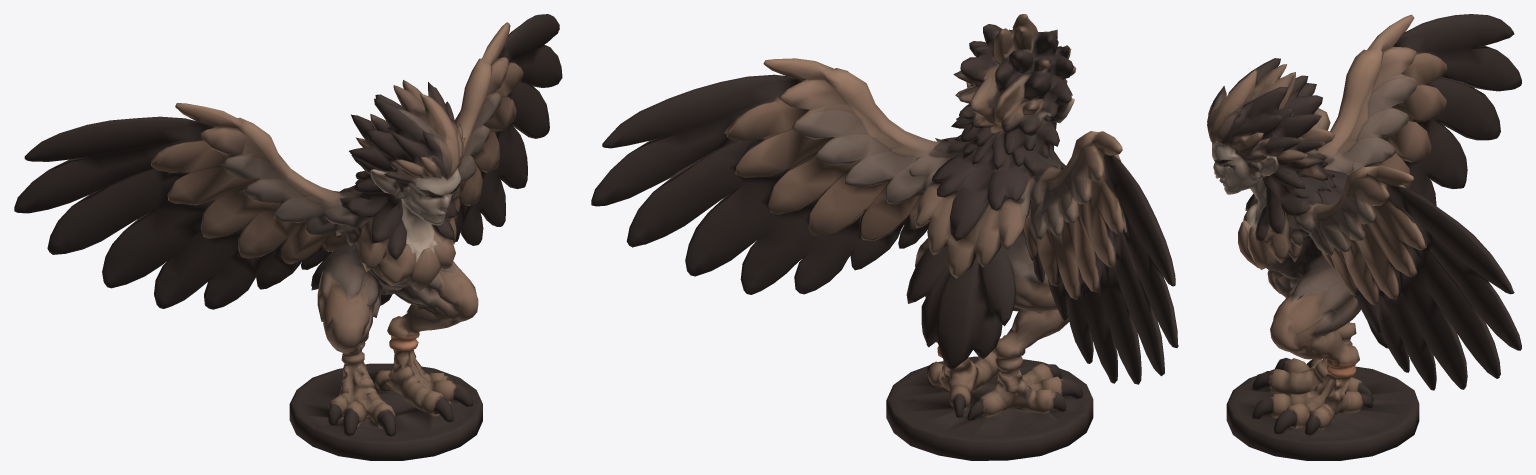
File: harpy-tripo-c756522c-smartuv-tex2k.glb
3 views of the same model, side by side, from view 1: azimuth 30°, elevation 25°; view 2: azimuth 150°, elevation 25°; view 3: azimuth 270°, elevation 25° (orthographic). The views are drawn at different scales.
Parts seen in each view (by area): view 1: tripo_node_75091185-4037-4651-ad4b-12b35e2bc847; view 2: tripo_node_75091185-4037-4651-ad4b-12b35e2bc847; view 3: tripo_node_75091185-4037-4651-ad4b-12b35e2bc847.
Boxes of the visible parts, box(x1,y1,x2,y2) form: tripo_node_75091185-4037-4651-ad4b-12b35e2bc847: box(14, 14, 562, 460); tripo_node_75091185-4037-4651-ad4b-12b35e2bc847: box(591, 14, 1178, 460); tripo_node_75091185-4037-4651-ad4b-12b35e2bc847: box(1207, 14, 1521, 460).
Bounding box in the file's own units: 0.9765 × 0.602 × 0.4873.
Materials: 1 (1 with a texture image).
